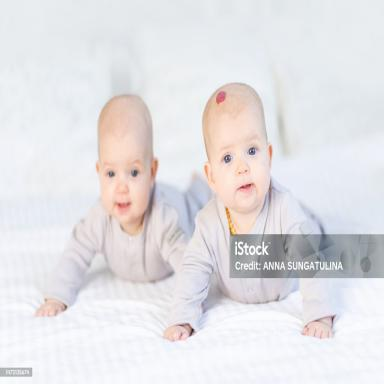Hemangiome: (216, 91, 226, 104)
